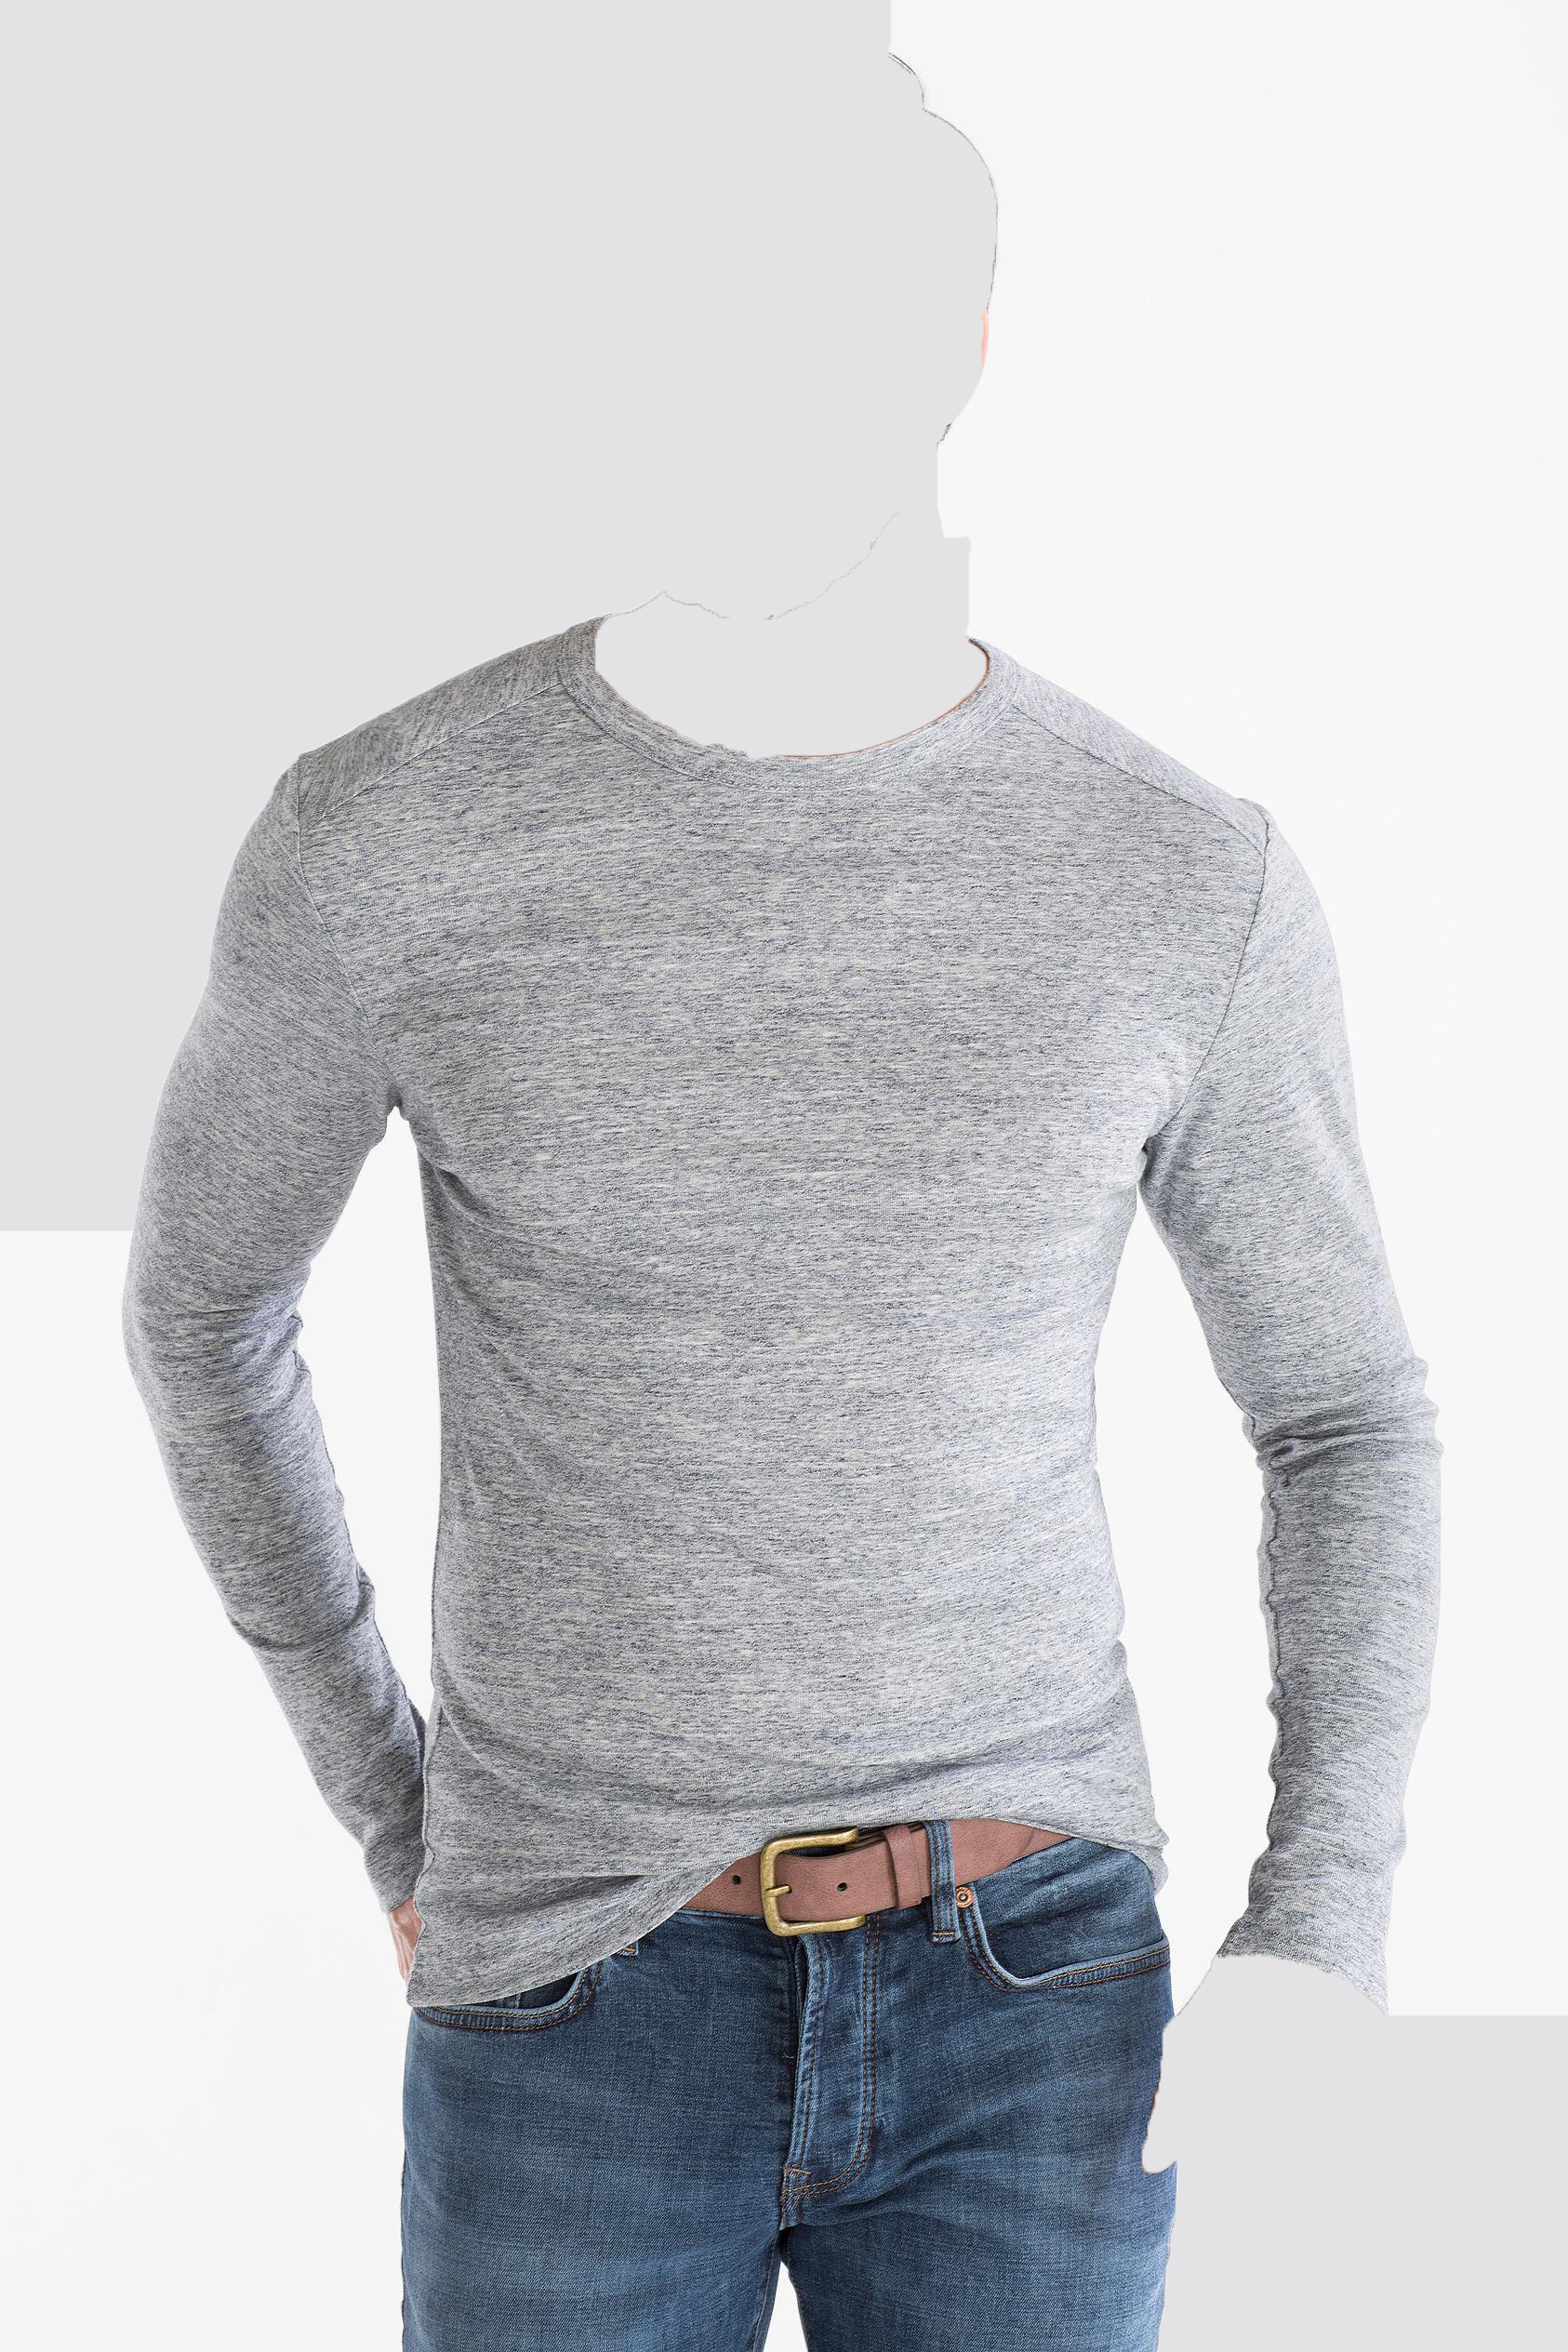teeshirt: (101, 611, 1461, 1988)
